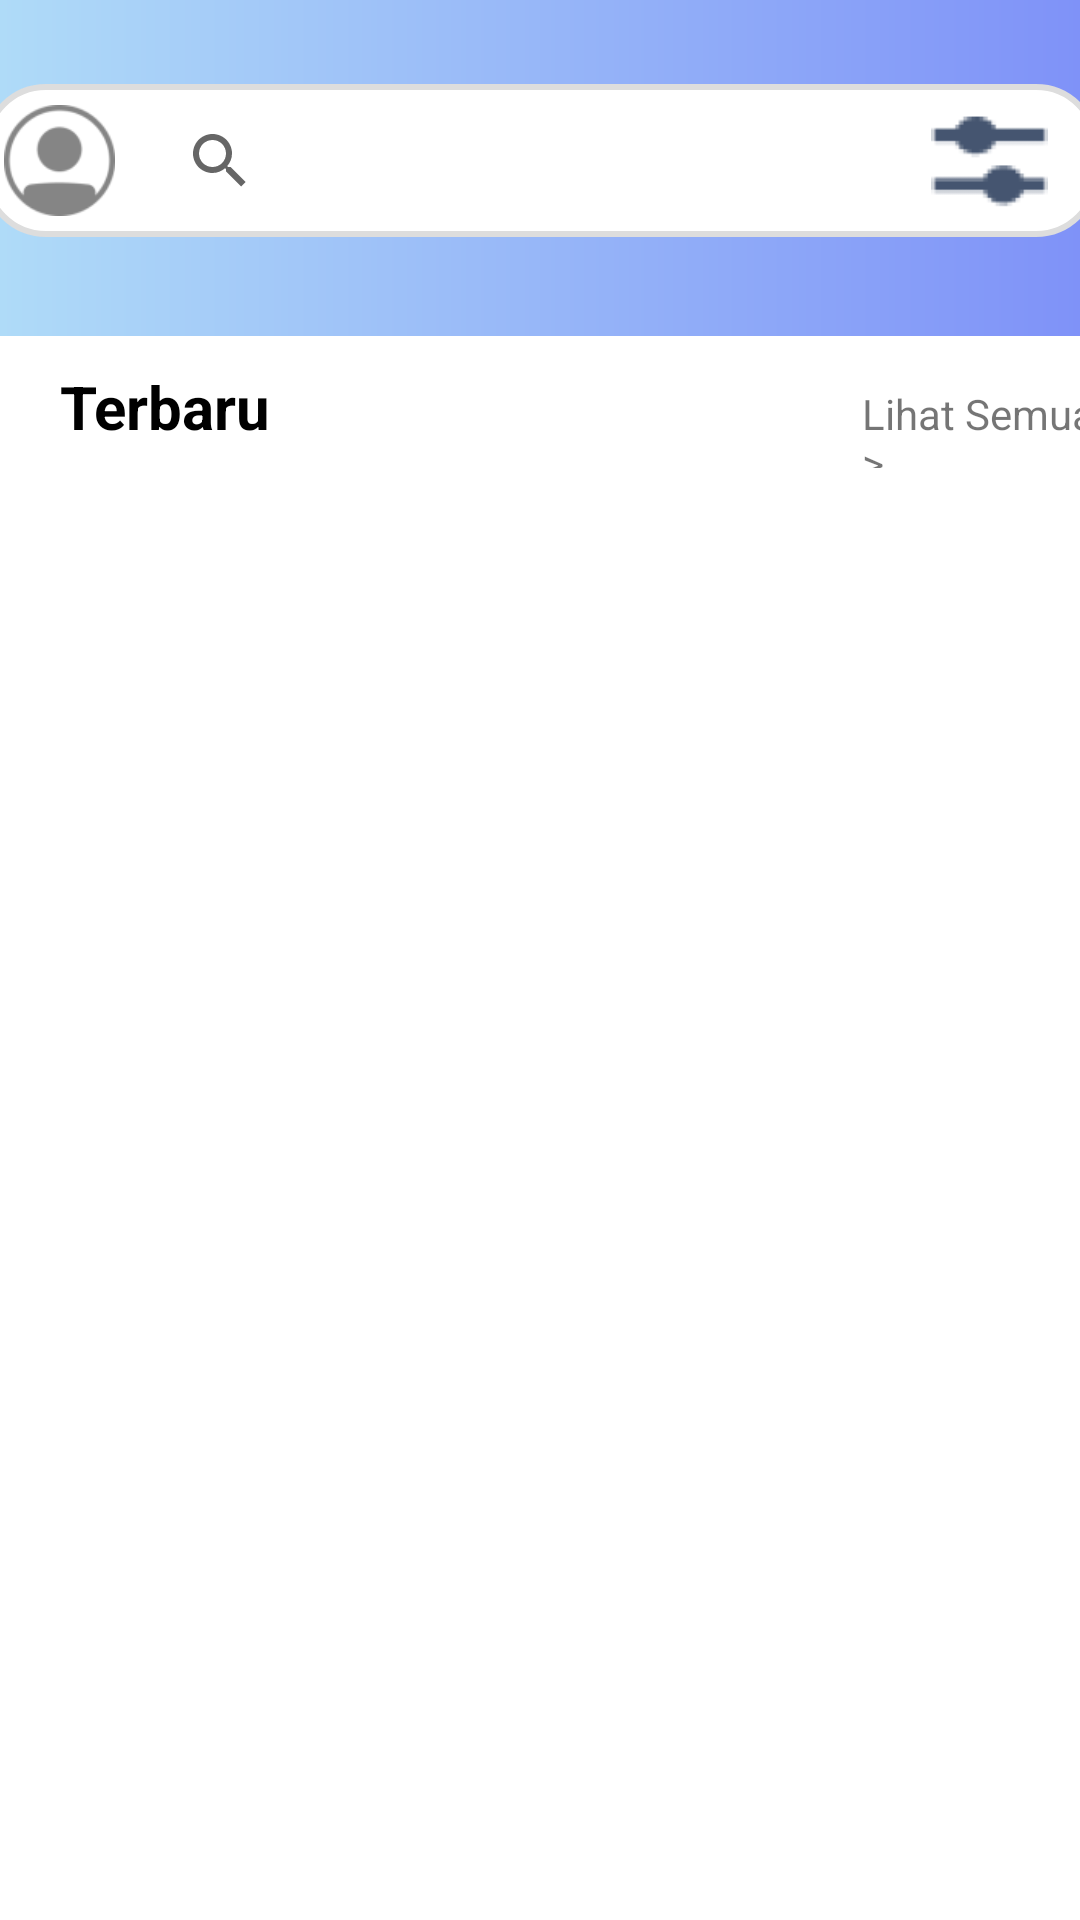

Icon click points for this 1080 x 1920 phone screenshot, format (x,y):
filter: (989,161)
